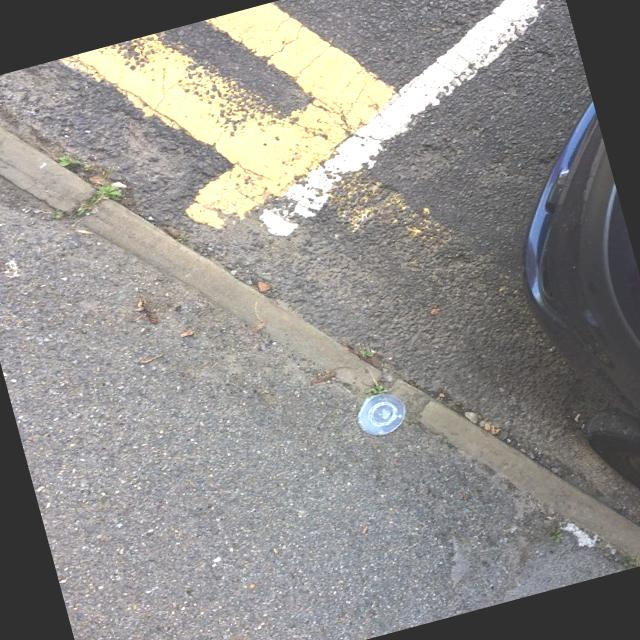Recycle: (348, 382, 413, 440)
